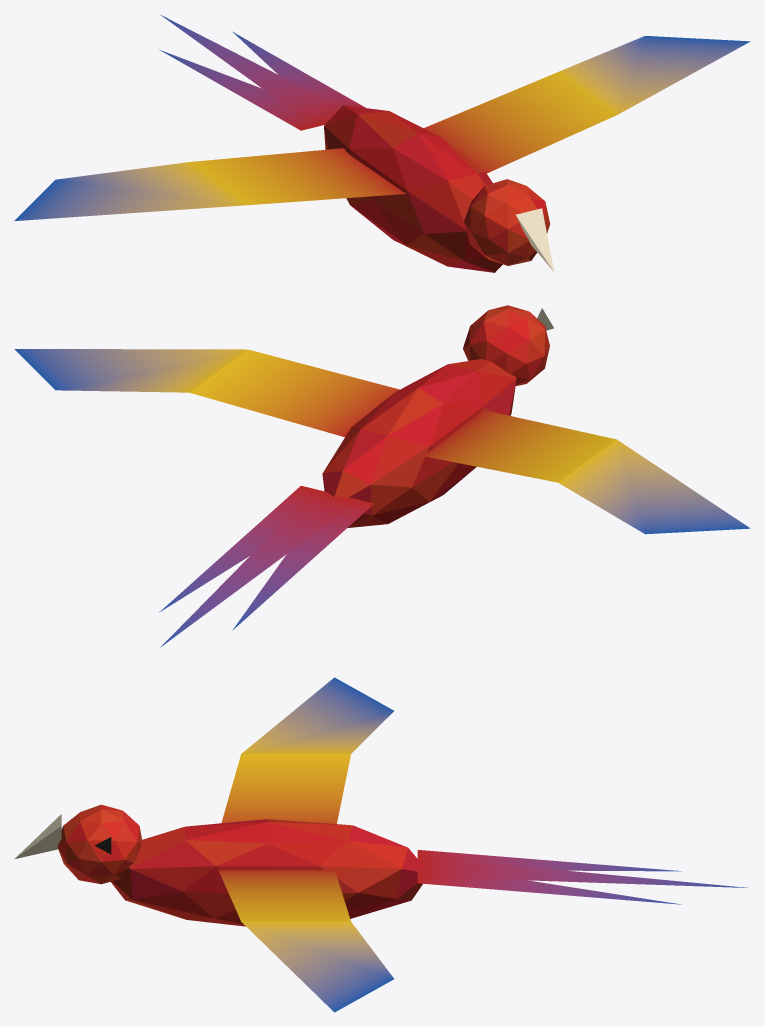
The model's file is macaw.glb.
3 renders of one model, top to bottom at view 1: azimuth 30°, elevation 25°; view 2: azimuth 150°, elevation 25°; view 3: azimuth 270°, elevation 25°, orthographic. The views are drawn at different scales.
Visible parts, largest first — view 1: macaw_wing, macaw_solid; view 2: macaw_wing, macaw_solid; view 3: macaw_wing, macaw_solid.
Boxes of the visible parts, box(x1,y1,x2,y2) form: macaw_wing: box(14, 15, 750, 221); macaw_solid: box(324, 105, 554, 272); macaw_wing: box(14, 349, 750, 647); macaw_solid: box(322, 305, 553, 527); macaw_wing: box(218, 677, 747, 1012); macaw_solid: box(14, 804, 423, 926).
Size of the model in its own units: 1 by 0.1606 by 0.929.
